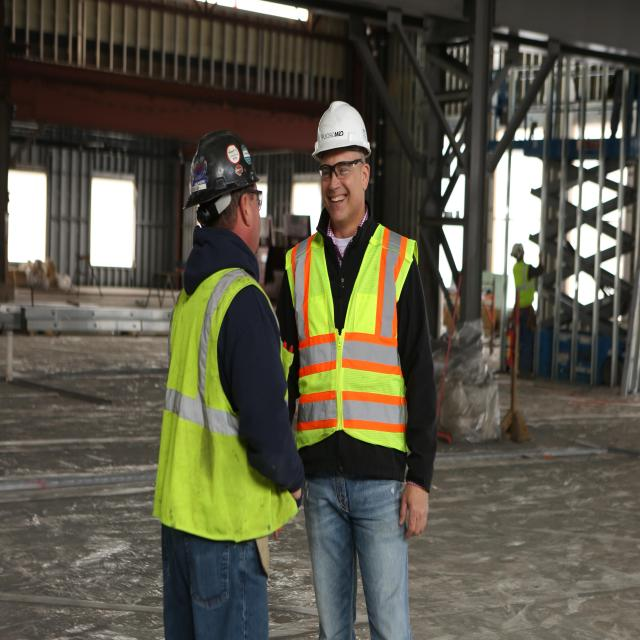Reflective-Jacket: (154, 267, 282, 538), (284, 221, 423, 468), (508, 261, 539, 314)
Safety-Helmet: (181, 121, 264, 211), (311, 94, 374, 164), (510, 241, 526, 258)
